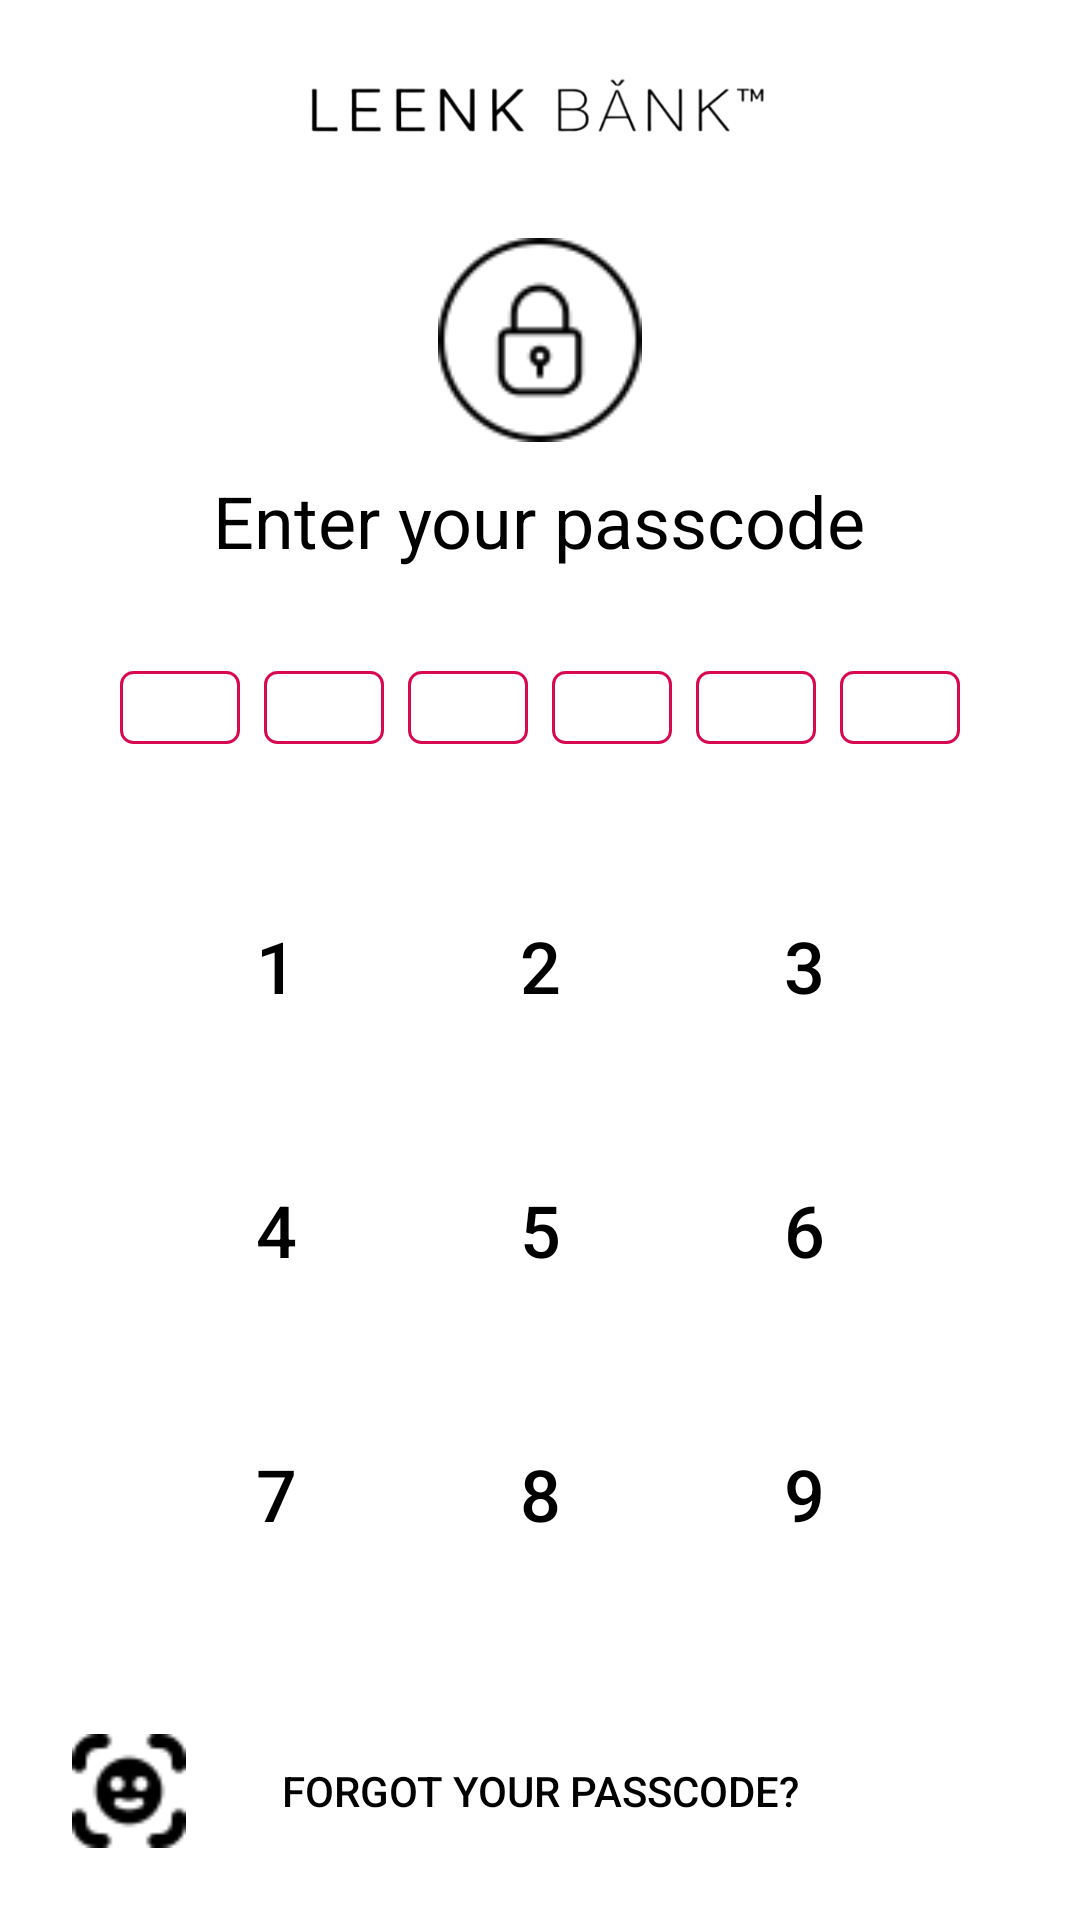

Point at icon controls on the screen. Image size 1080w x 1920h, points as point (x, y).
Face Login: point (129, 1791)
Lock Icon: point (540, 340)
